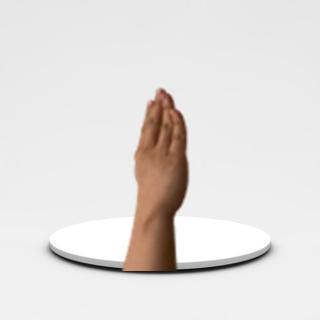RIGHT: (124, 81, 195, 217)
